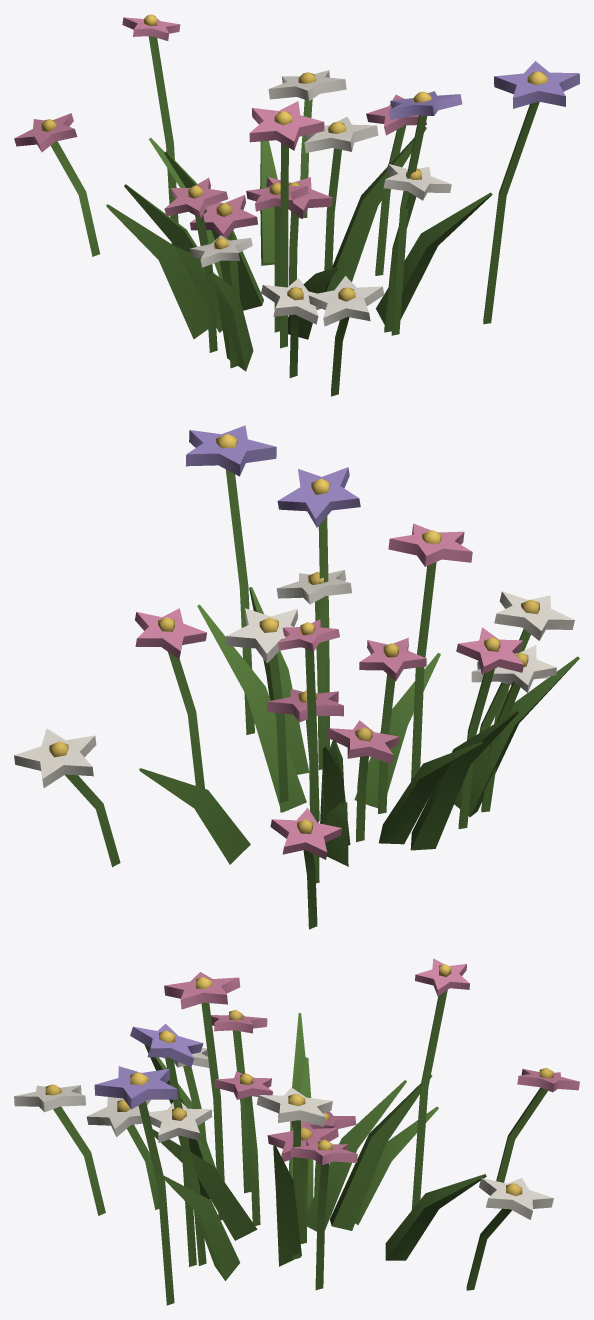
Rendered from flowers.glb.
3 views of the same model, one above another, from view 1: azimuth 30°, elevation 25°; view 2: azimuth 150°, elevation 25°; view 3: azimuth 270°, elevation 25° (orthographic). The views are drawn at different scales.
Parts seen in each view (by area): view 1: flowers; view 2: flowers; view 3: flowers.
Boxes of the visible parts, x1=… form: flowers: x1=14, y1=14, x2=579, y2=396; flowers: x1=14, y1=425, x2=579, y2=929; flowers: x1=14, y1=958, x2=579, y2=1305.
Size of the model in its own units: 0.5077 by 0.327 by 0.6571.
